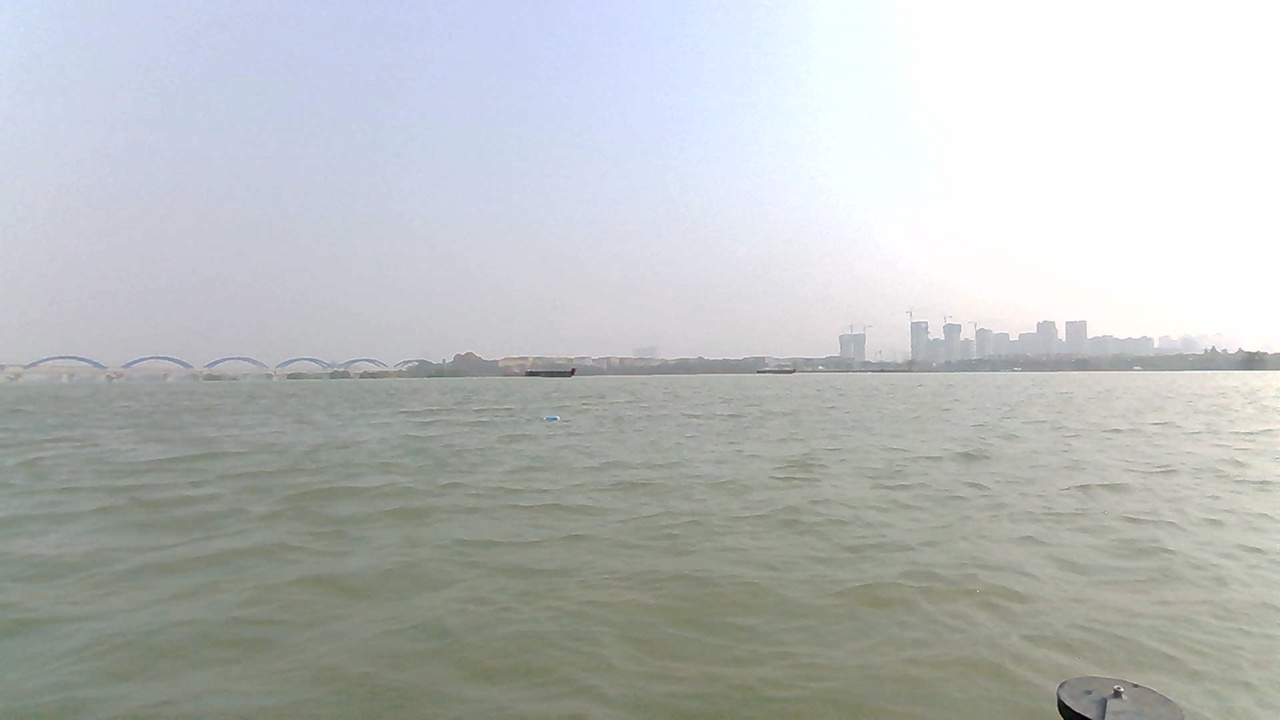bottle: (537, 411, 563, 424)
